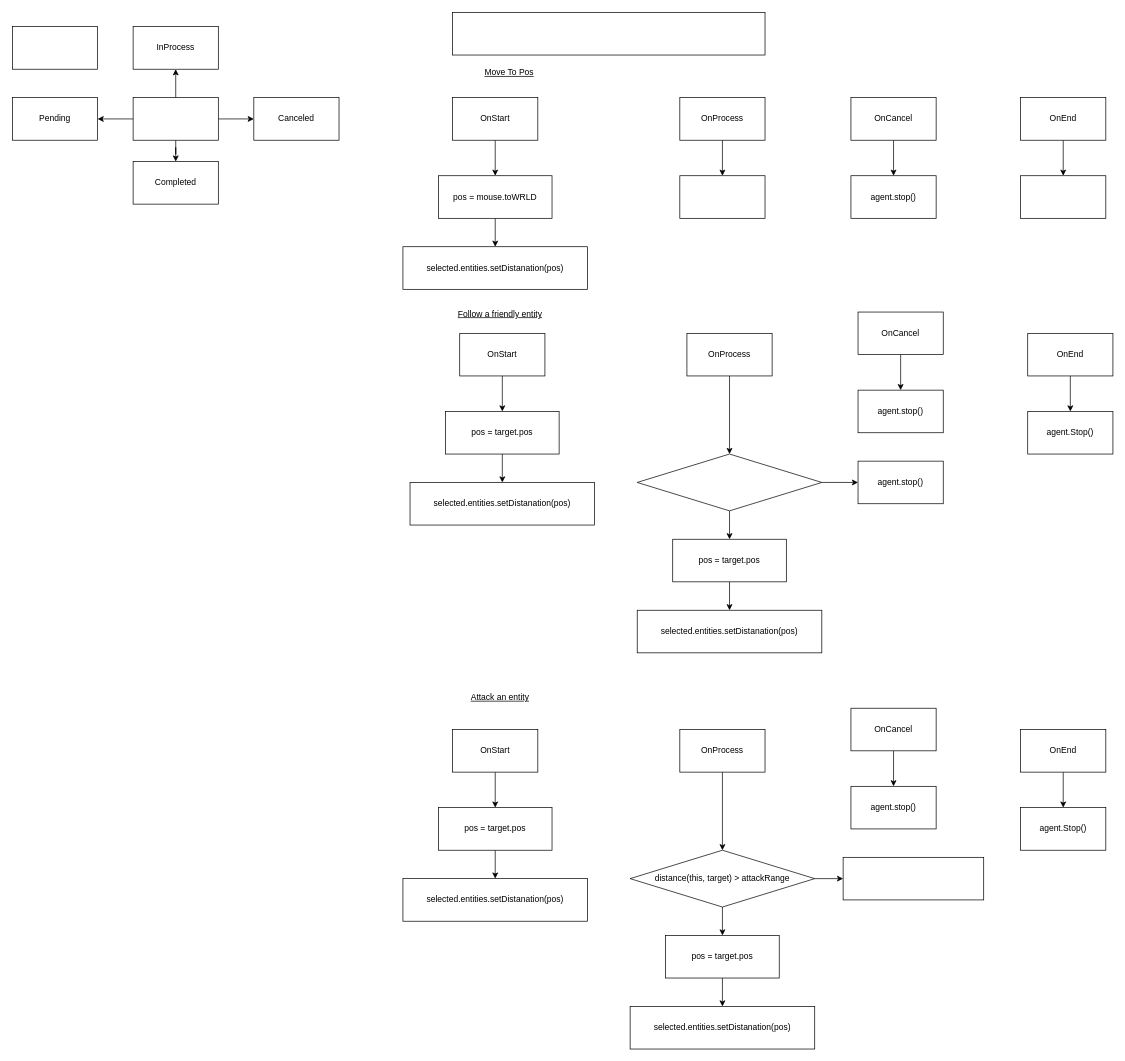
Some shapes in this 1125 by 1061 pixel diagram are drawn without their labels. Each missing label, with the centre of its shape:
Action: (175,118)
distance(this, target) > followRange: (729,482)
Move R click Command: (608,33)
selected.entities.PerformAttack(): (913,878)
Start: (55,47)
